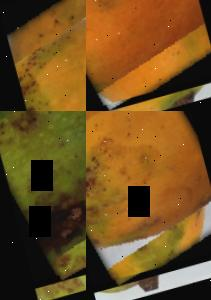Ripe: (86, 111, 211, 287), (86, 0, 211, 111), (0, 0, 86, 111)
Unripe: (0, 111, 86, 283)
